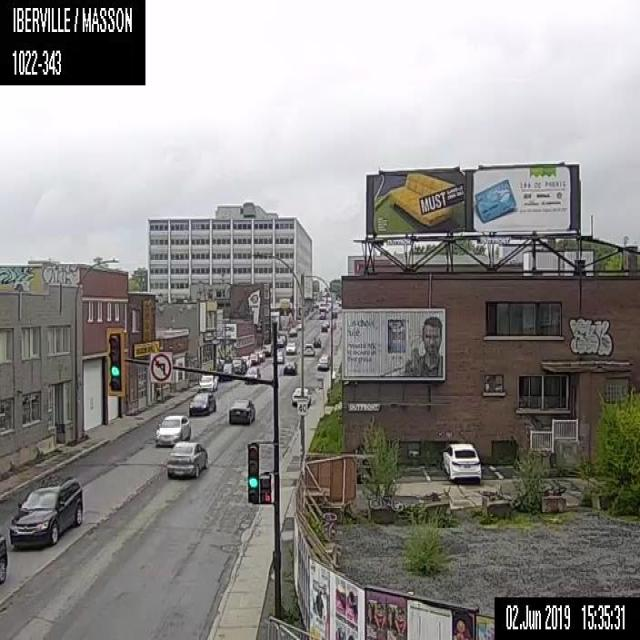vehicle: (8, 473, 84, 548), (440, 442, 481, 482), (166, 439, 207, 478), (154, 414, 190, 444), (228, 397, 255, 425), (188, 390, 216, 415), (290, 385, 311, 406), (0, 532, 8, 584), (197, 372, 217, 391), (243, 365, 260, 384), (231, 356, 246, 373), (282, 360, 298, 375), (220, 363, 234, 380), (316, 356, 328, 369), (303, 342, 314, 356), (261, 343, 272, 356), (286, 340, 296, 354), (249, 352, 259, 365), (276, 348, 284, 364), (253, 350, 264, 361), (241, 355, 250, 367), (312, 335, 320, 347), (318, 306, 326, 318), (296, 318, 304, 329), (287, 327, 296, 336), (319, 323, 327, 332), (332, 310, 336, 318)
